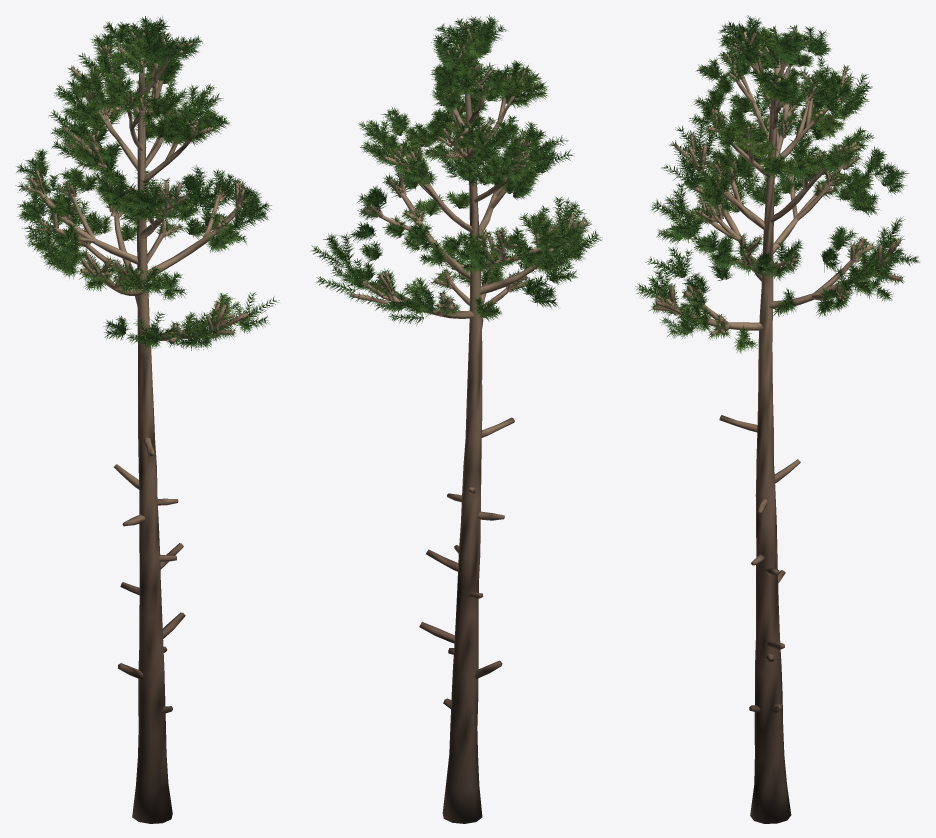
The model's file is PineTree_04.glb.
3 views of the same model, side by side, from view 1: azimuth 30°, elevation 25°; view 2: azimuth 150°, elevation 25°; view 3: azimuth 270°, elevation 25° (orthographic).
Parts seen in each view (by area): view 1: PineTree_04; view 2: PineTree_04; view 3: PineTree_04.
Part boxes in pixels (left/top/right/bottom): PineTree_04: left=15, top=16, right=279, bottom=823; PineTree_04: left=310, top=15, right=602, bottom=823; PineTree_04: left=635, top=15, right=920, bottom=823.
Bounding box in the file's own units: 6.72 × 21.17 × 6.99.
